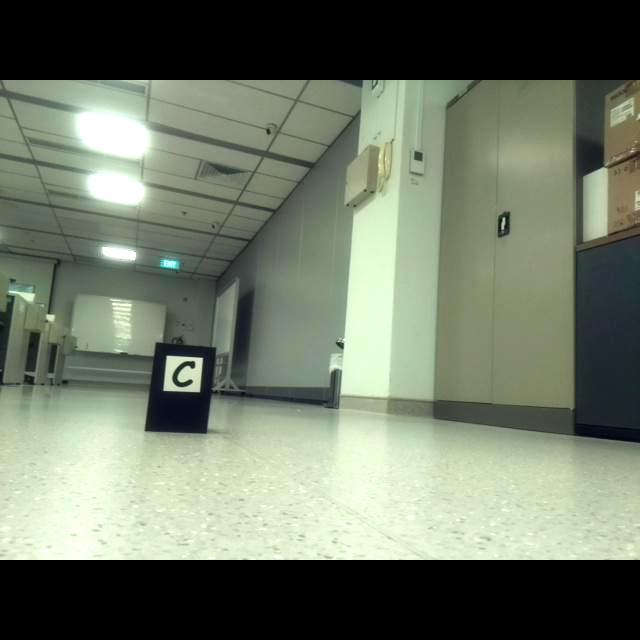C: (172, 361, 196, 388)
